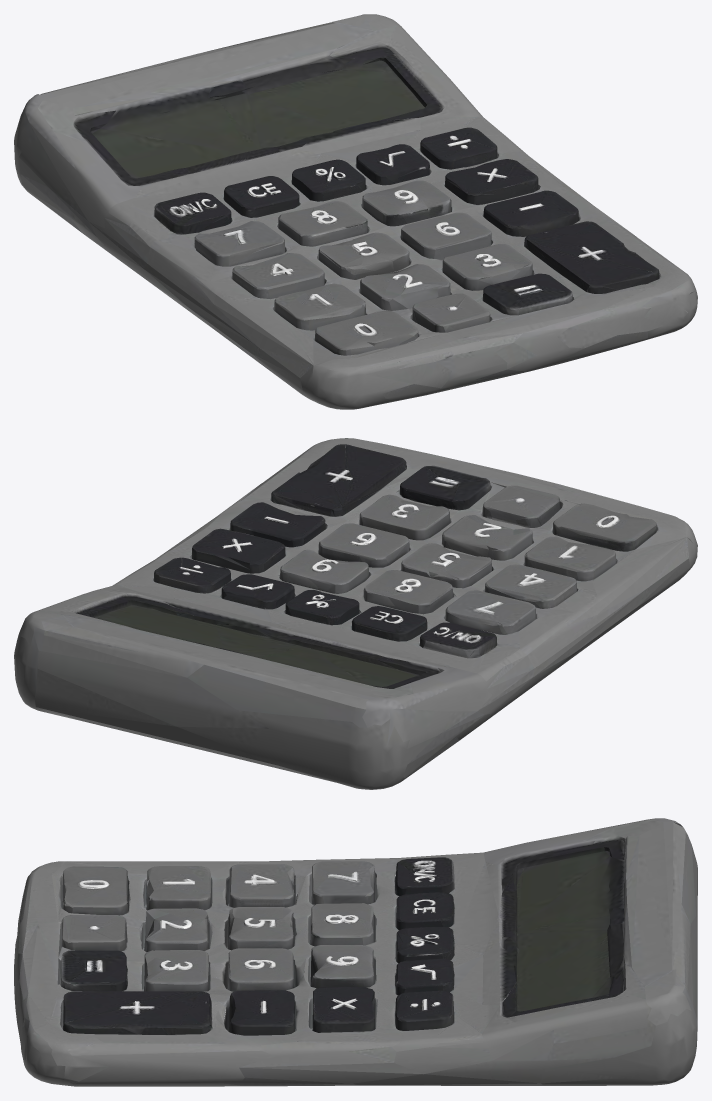
The model's file is e4calc.glb.
3 renders of one model, top to bottom at view 1: azimuth 30°, elevation 25°; view 2: azimuth 150°, elevation 25°; view 3: azimuth 270°, elevation 25°, orthographic. The views are drawn at different scales.
Visible parts, largest first — view 1: output_unwrapped; view 2: output_unwrapped; view 3: output_unwrapped.
Boxes of the visible parts, x1,y1,x2,y2 form: output_unwrapped: (14, 14, 697, 409); output_unwrapped: (14, 438, 697, 789); output_unwrapped: (14, 818, 697, 1086).
Size of the model in its own units: 0.0877 by 0.0191 by 0.13.
Materials: 1 (1 with a texture image).
